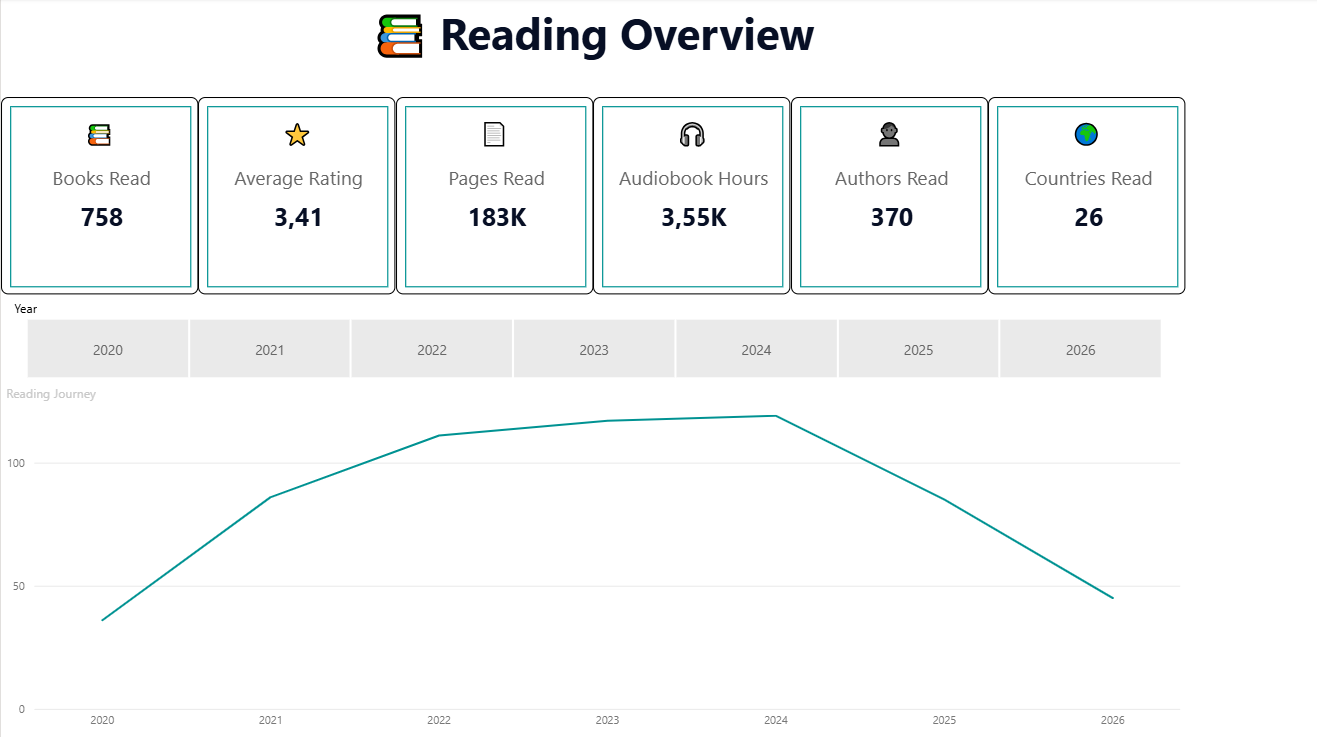

What the dashboard file says about the page in this screenshot:
{"tool":"powerbi","page":{"name":"Reading Overview","canvas":[1280,720],"ordinal":0},"visuals":[{"type":"cardVisual","fields":{"Data":["FactBooks.Books Read"]},"box":[0,96,192,192],"z":0},{"type":"cardVisual","fields":{"Data":["FactBooks.Average Rating"]},"box":[192,96,192,192],"z":1000},{"type":"cardVisual","fields":{"Data":["FactBooks.Pages Read"]},"box":[384,96,192,192],"z":2000},{"type":"cardVisual","fields":{"Data":["FactBooks.Audiobook Hours"]},"box":[576,96,192,192],"z":3000},{"type":"cardVisual","fields":{"Data":["FactBooks.Authors Read"]},"box":[768,96,192,192],"z":4000},{"type":"cardVisual","fields":{"Data":["FactBooks.Countries Read"]},"box":[960,96,192,192],"z":5000},{"type":"textbox","box":[0,0,1152,96],"z":6000},{"type":"lineChart","title":"Reading Journey","fields":{"Y":["FactBooks.Books Read"],"Category":["DimDate.Year"]},"box":[0,376,1152,344],"z":7000},{"type":"slicer","fields":{"Values":["DimDate.Year"]},"box":[0,288,1152,88],"z":8000},{"type":"textbox","box":[16,112,160,40],"z":9000},{"type":"textbox","box":[208,112,160,40],"z":10000},{"type":"textbox","box":[400,112,160,40],"z":11000},{"type":"textbox","box":[592,112,160,40],"z":12000},{"type":"textbox","box":[784,112,160,40],"z":13000},{"type":"textbox","box":[976,112,160,40],"z":14000}]}

Visuals, with their boxes in screenshot pixels (x1, y1, x2, y2), scaled from the page's 1280x720 canvas onto the 1317x737 screenshot:
cardVisual - FactBooks.Books Read: (0, 98, 198, 295)
cardVisual - FactBooks.Average Rating: (198, 98, 395, 295)
cardVisual - FactBooks.Pages Read: (395, 98, 593, 295)
cardVisual - FactBooks.Audiobook Hours: (593, 98, 790, 295)
cardVisual - FactBooks.Authors Read: (790, 98, 988, 295)
cardVisual - FactBooks.Countries Read: (988, 98, 1185, 295)
textbox: (0, 0, 1185, 98)
"Reading Journey" lineChart: (0, 385, 1185, 736)
slicer - DimDate.Year: (0, 295, 1185, 385)
textbox: (16, 115, 181, 156)
textbox: (214, 115, 379, 156)
textbox: (412, 115, 576, 156)
textbox: (609, 115, 774, 156)
textbox: (807, 115, 971, 156)
textbox: (1004, 115, 1169, 156)
